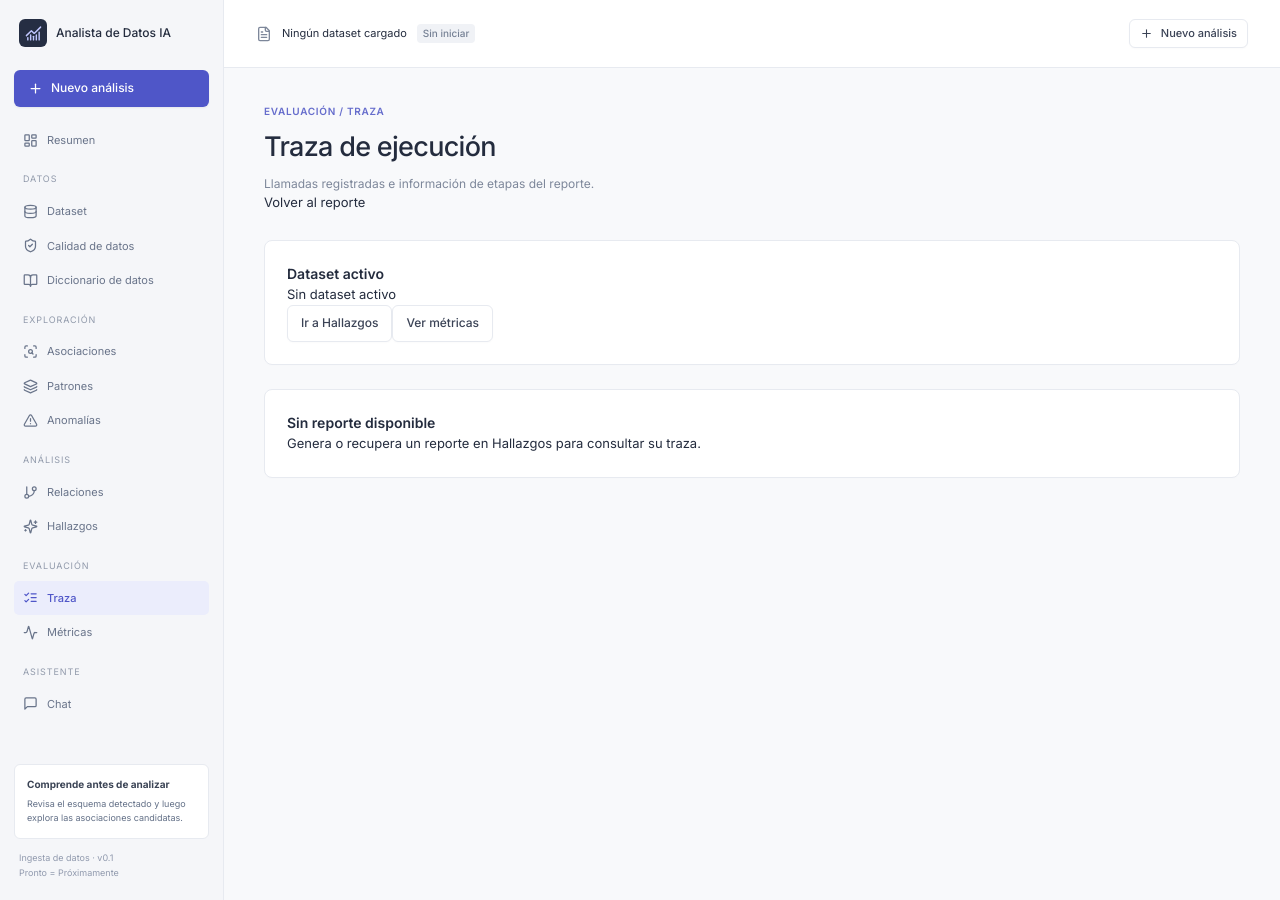
Test: historical missing trace does not manufacture stage events
Click the link "Hallazgos": (60, 527) [23,519,98,534]
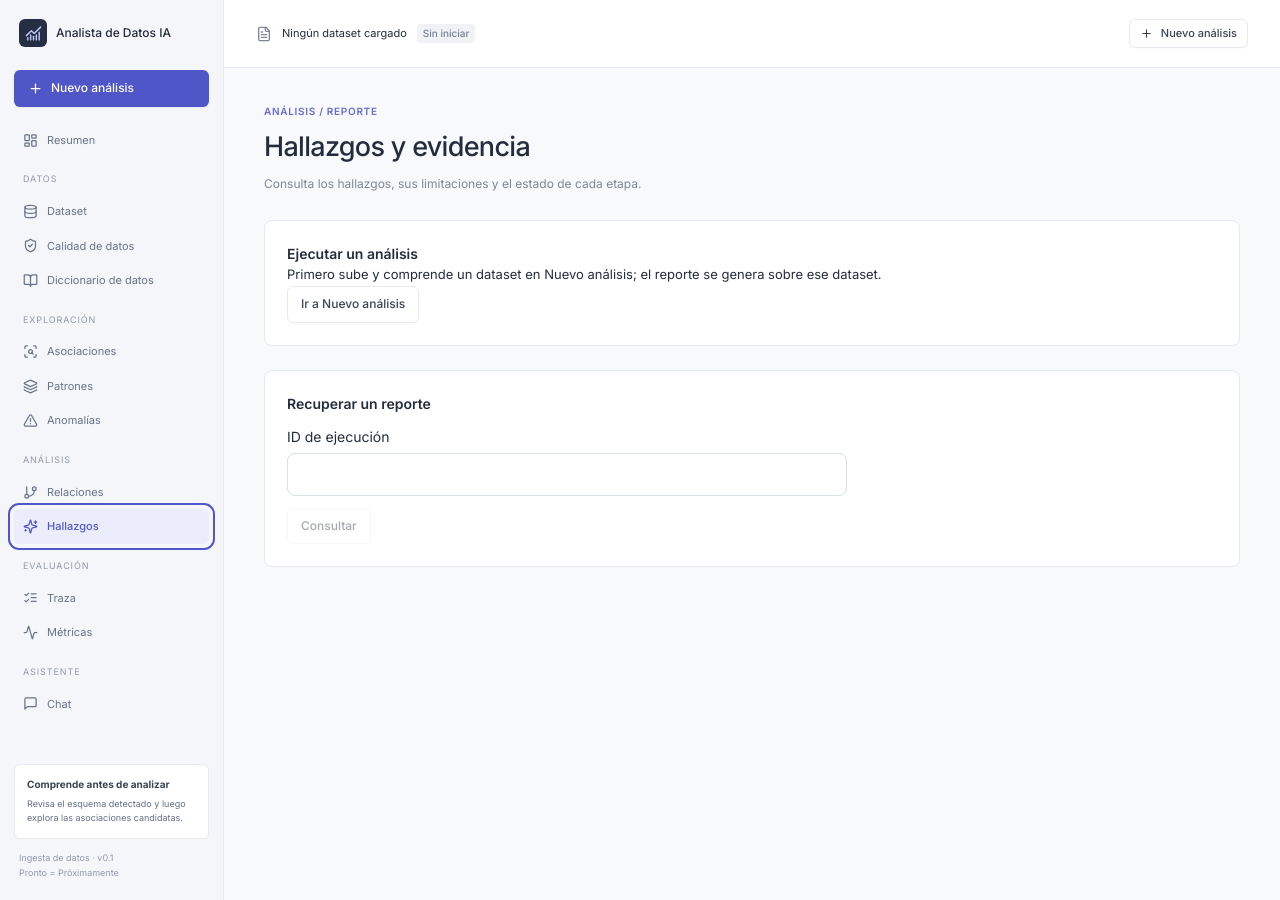
In the field labelled "ID de ejecución": (567, 474) [287,453,847,496], type "trace-run"
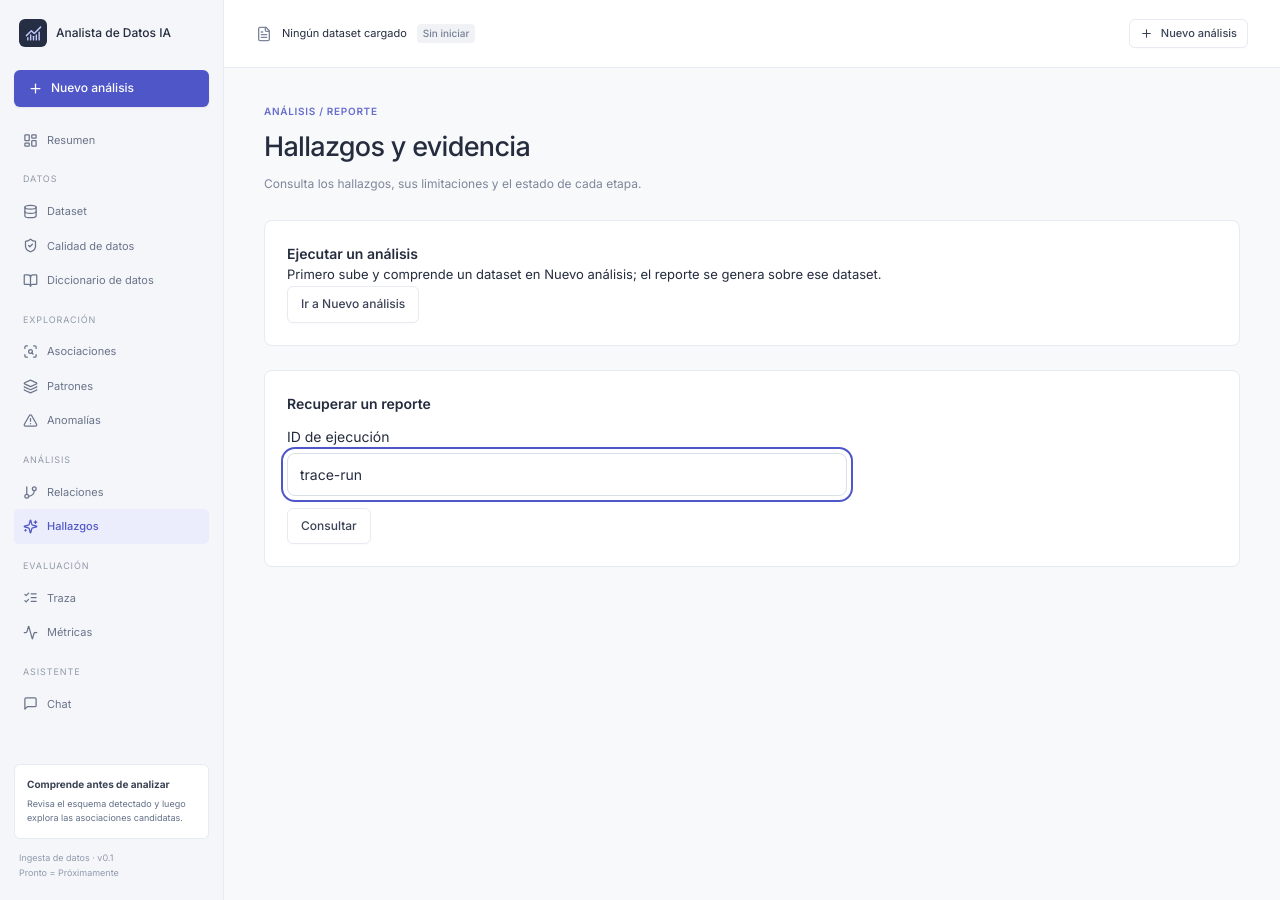
Click the button "Consultar": (329, 526) [287,508,371,544]
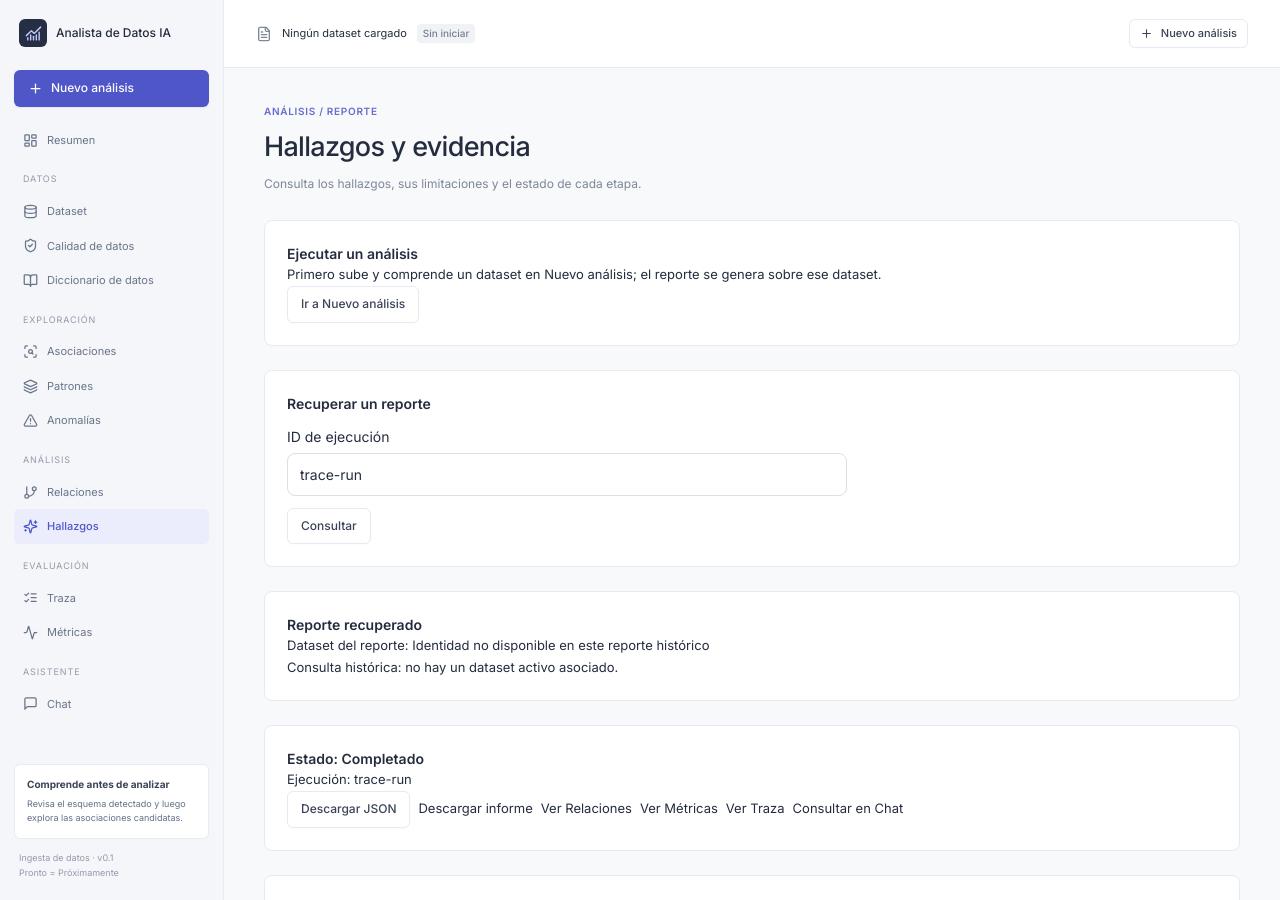
Click the link "Traza": (50, 598) [23,590,76,605]
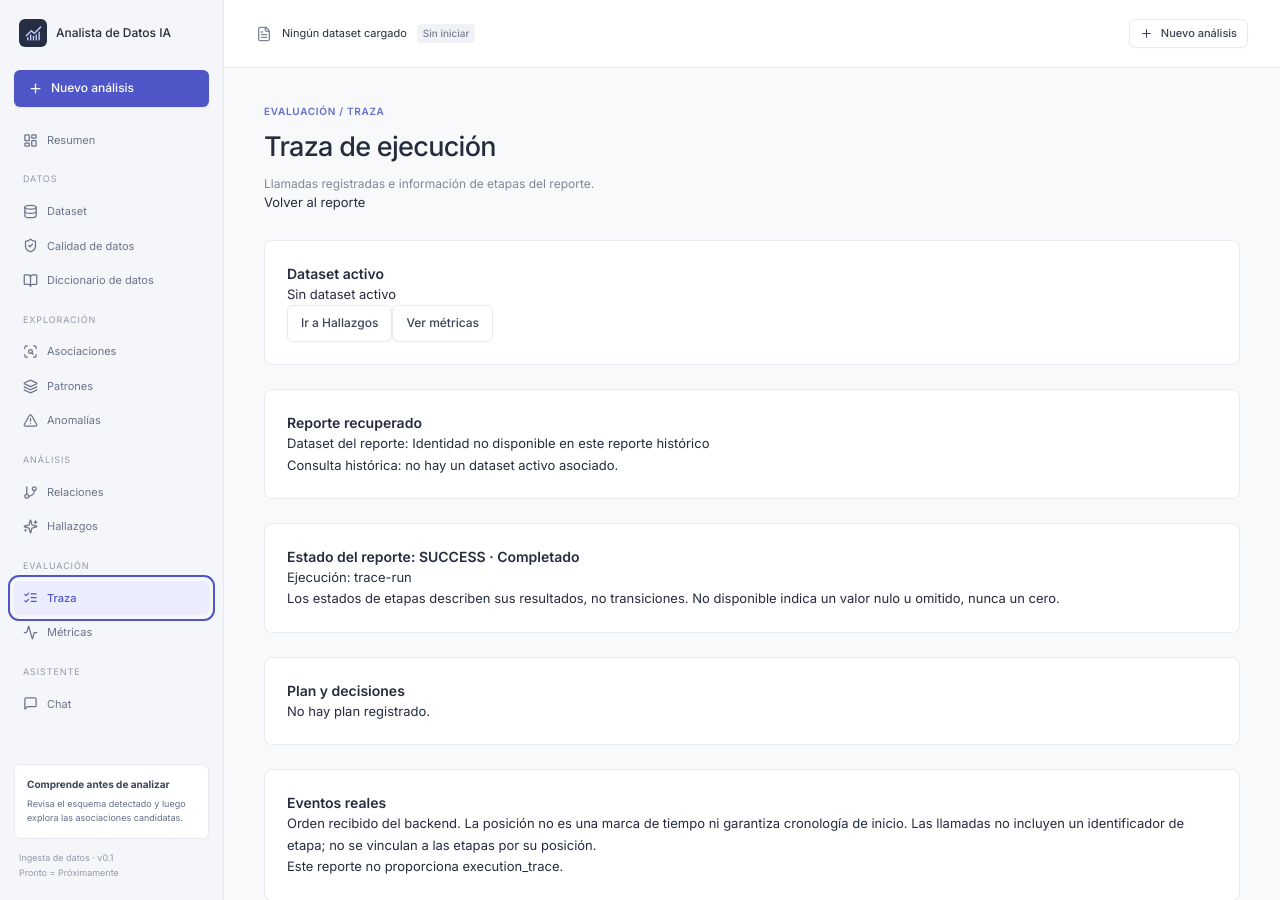
Now the text "Dataset del reporte: Identidad no disponible" is shown, box [287,435,709,451]
Now the text "Este reporte no proporciona execution_trace." is shown, box [287,858,563,874]
